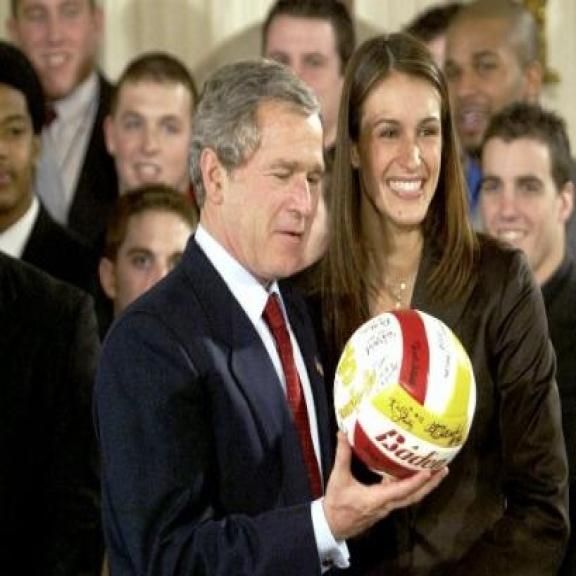face: (194, 90, 327, 283), (354, 67, 444, 229), (446, 9, 544, 152), (481, 134, 572, 275), (100, 68, 194, 196), (265, 13, 346, 144), (100, 208, 190, 324), (8, 0, 107, 94), (0, 84, 43, 214)
